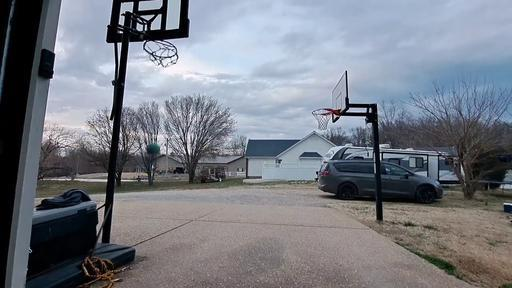ball: (146, 144, 161, 156)
rim: (142, 39, 178, 66), (312, 108, 333, 130)
